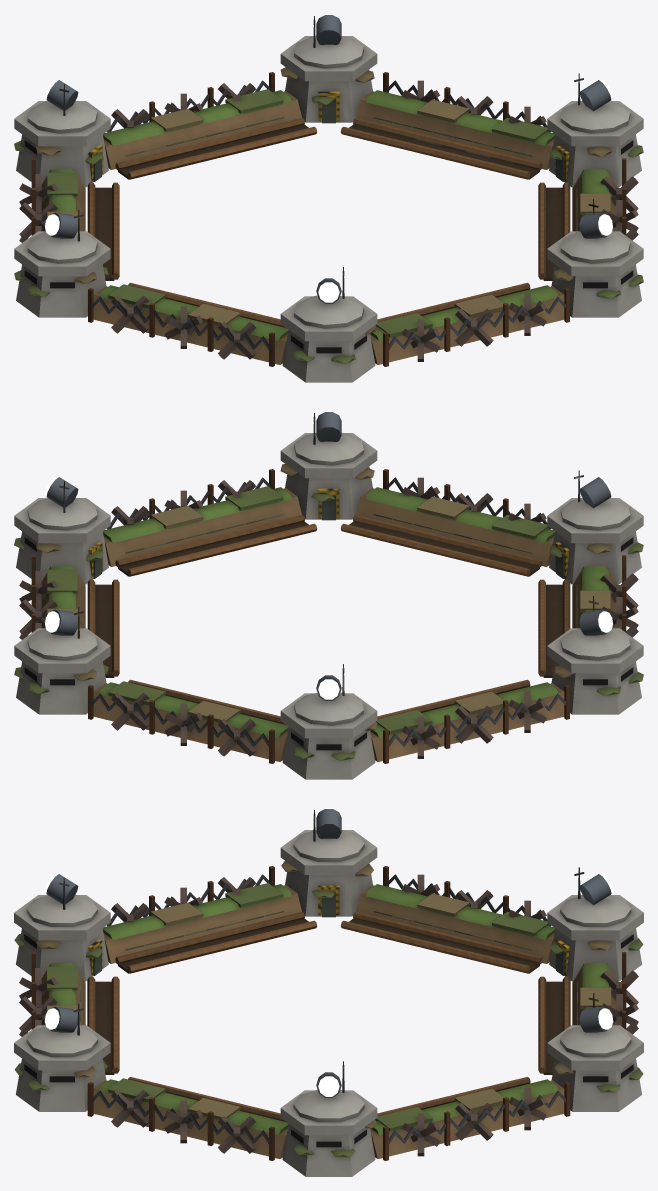
Rendered from fort_l6.glb.
The picture shows the model from 3 angles, top to bottom: view 1: azimuth 30°, elevation 25°; view 2: azimuth 150°, elevation 25°; view 3: azimuth 270°, elevation 25°; orthographic projection.
Visible parts, largest first — view 1: fort_l6; view 2: fort_l6; view 3: fort_l6.
Boxes of the visible parts, x1,y1,x2,y2 form: fort_l6: [14, 14, 643, 382]; fort_l6: [14, 411, 643, 779]; fort_l6: [14, 808, 643, 1176].
Size of the model in its own units: 1.98 by 0.2901 by 1.76.
2 materials, 1 textured.
